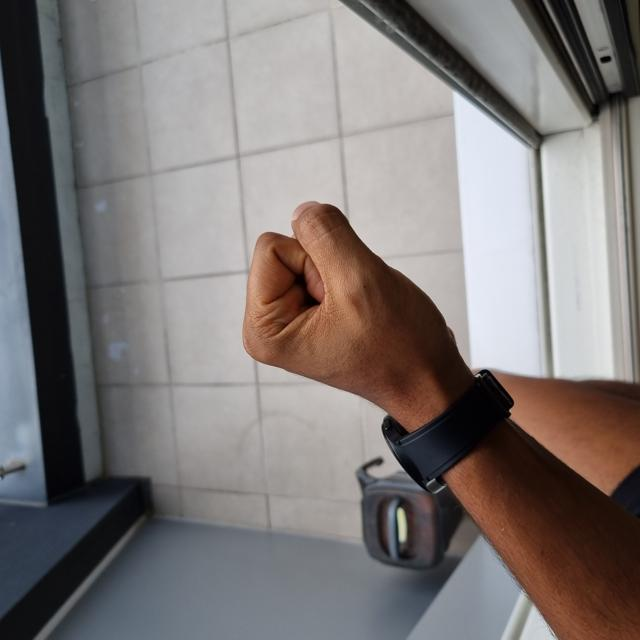Rock: (219, 244, 437, 464)
